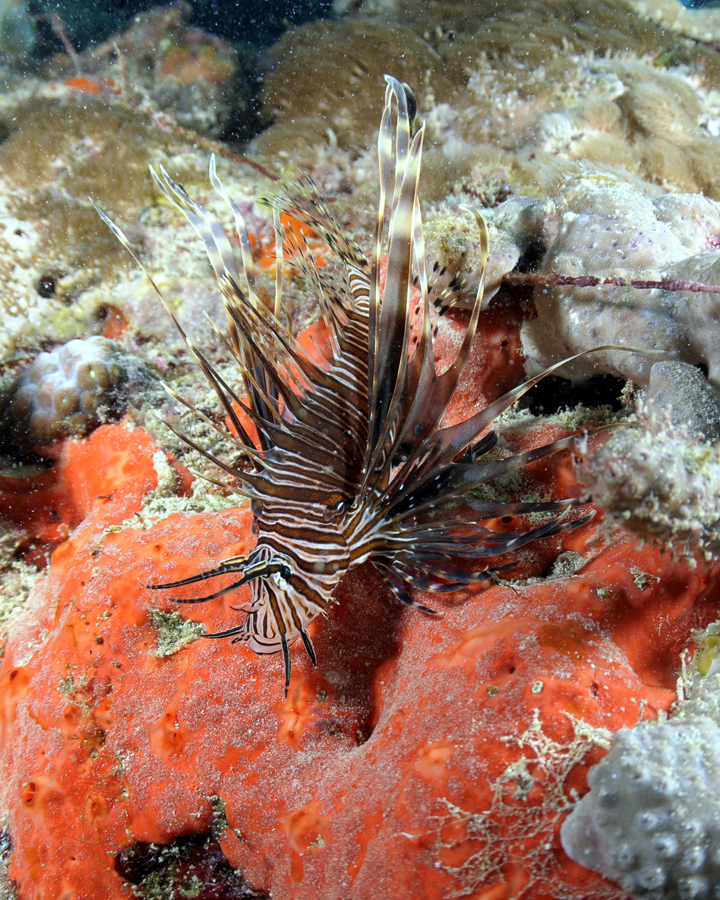Pterois_volitans: (108, 97, 593, 714)
